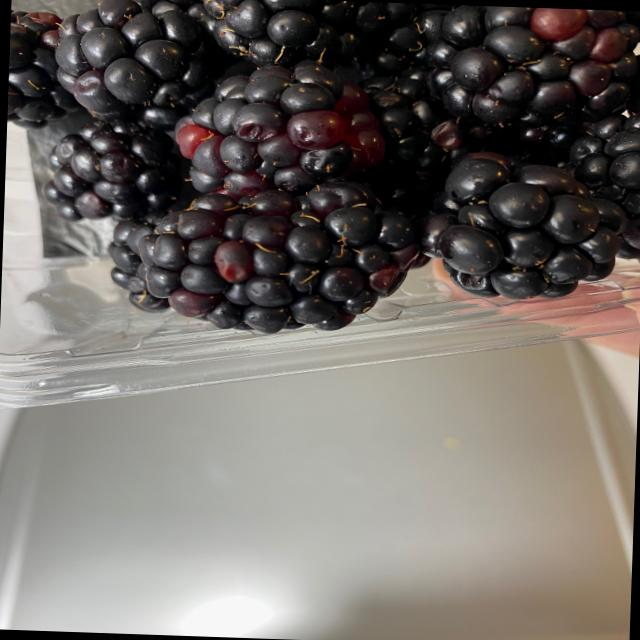blackberries: (0, 0, 640, 316)
